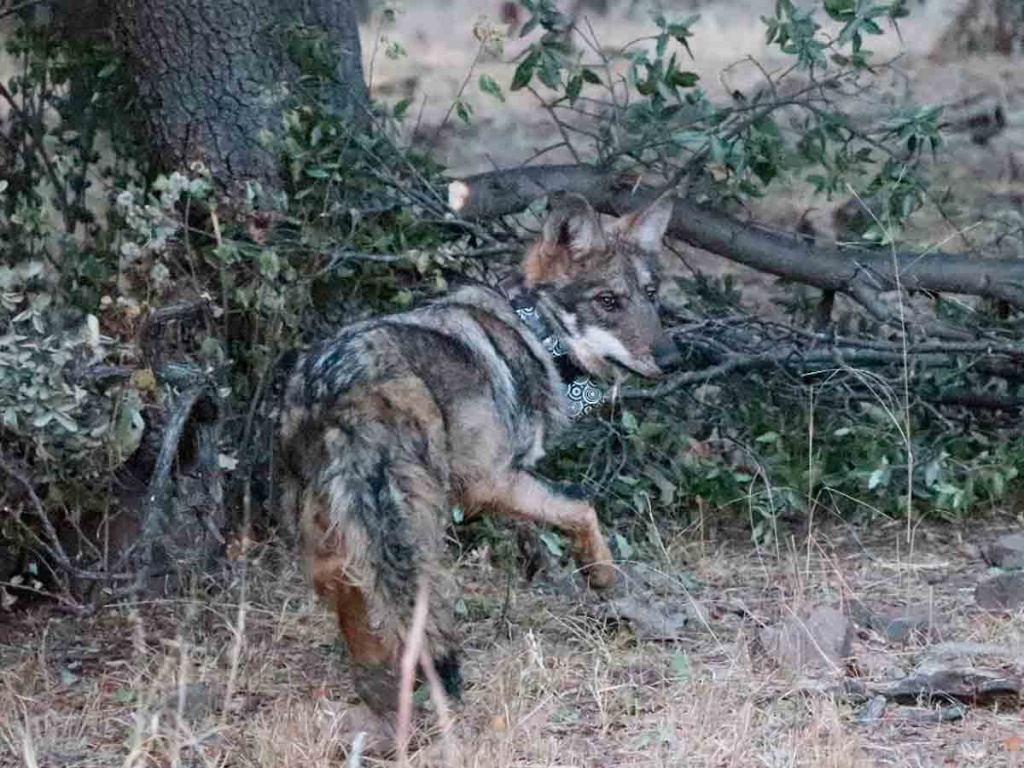Lobo: (244, 184, 812, 646)
